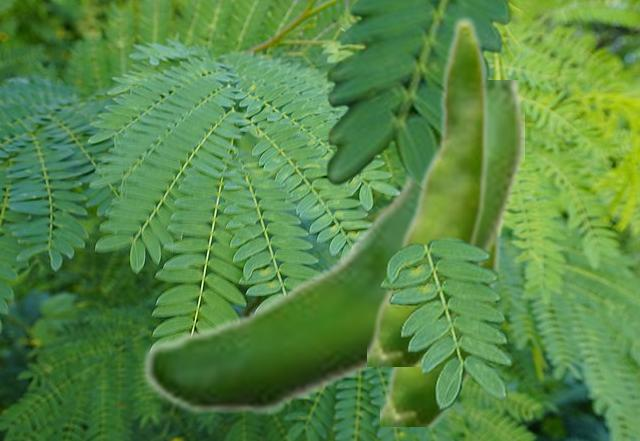green_chili: (140, 80, 523, 417), (380, 77, 504, 425), (367, 15, 489, 365)
